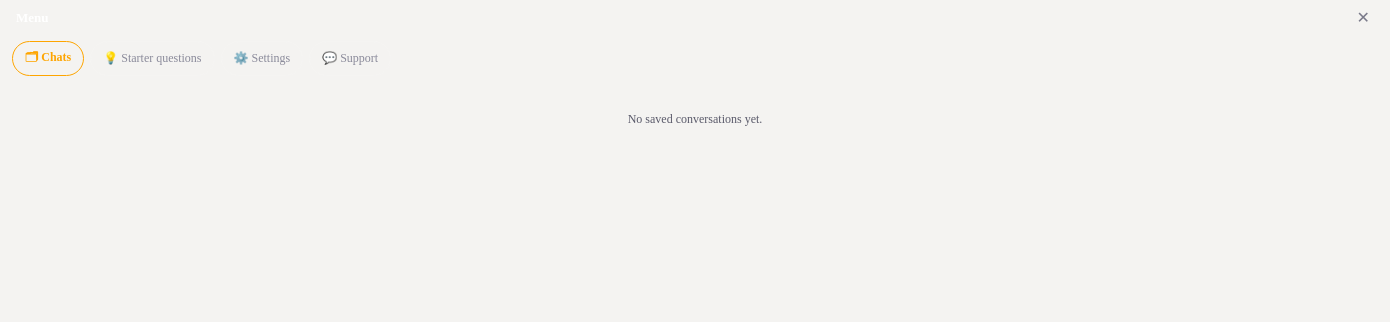
what TEC AI sees › a failed read says the assistant answers without Life — never "not shared"
The image size is (1390, 322).
What coordinates should you click on to do the following:
click the tab "⚙️ Settings"
I would click on:
 (262, 58)
Its box is [220,41,303,76].
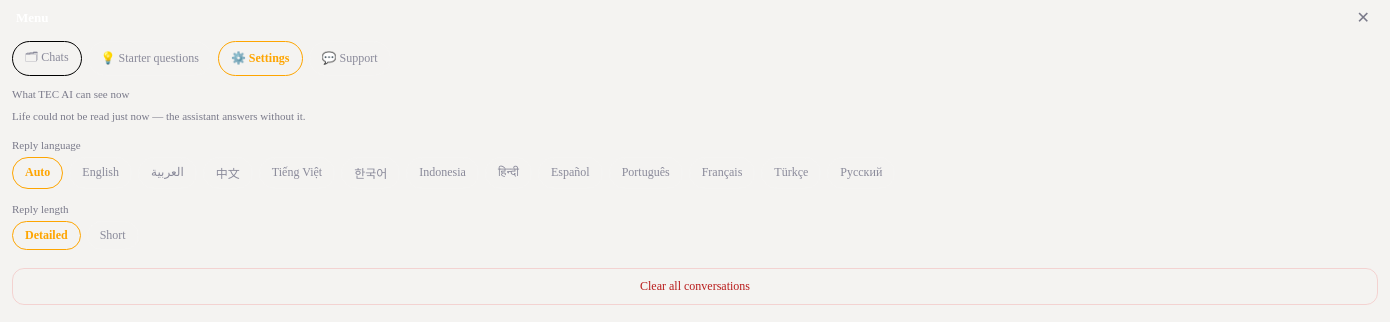
Check: the text "could not be read just now" is shown, box [12,110,306,122]
